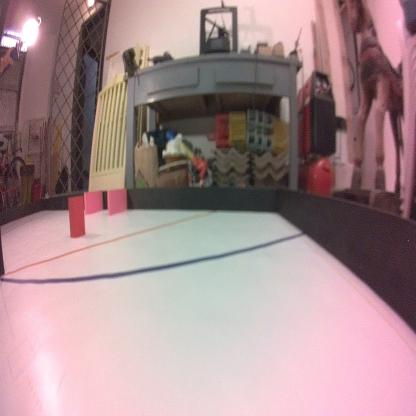magenta: (106, 188, 126, 213), (83, 188, 103, 212)
red: (68, 195, 86, 240)
